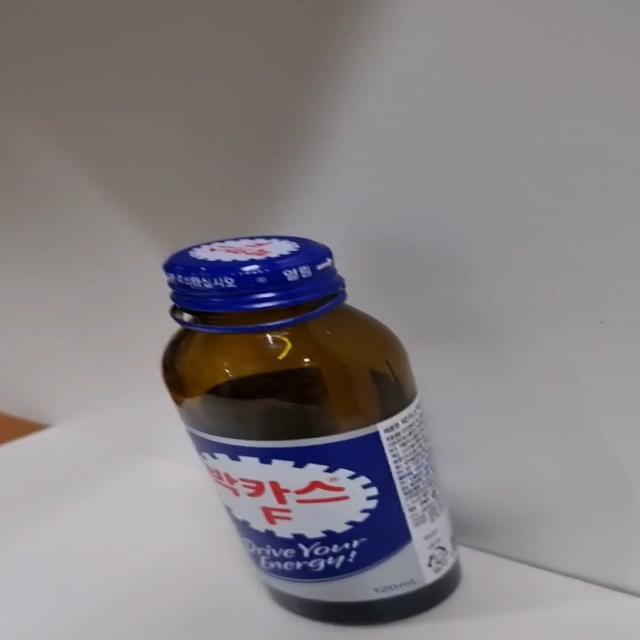Glass: (160, 234, 461, 628)
